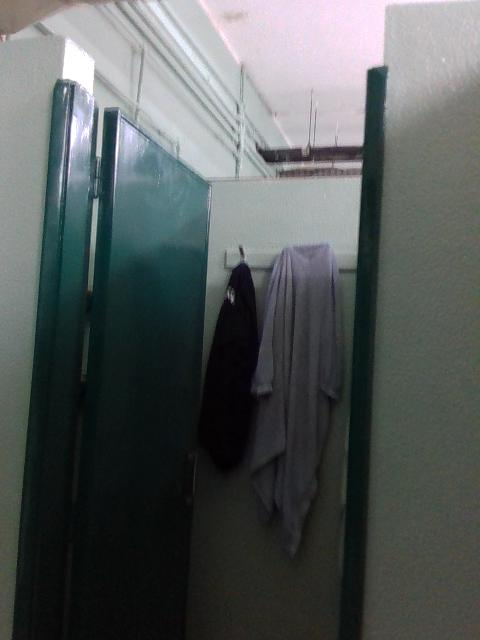open_door: (9, 57, 387, 639)
